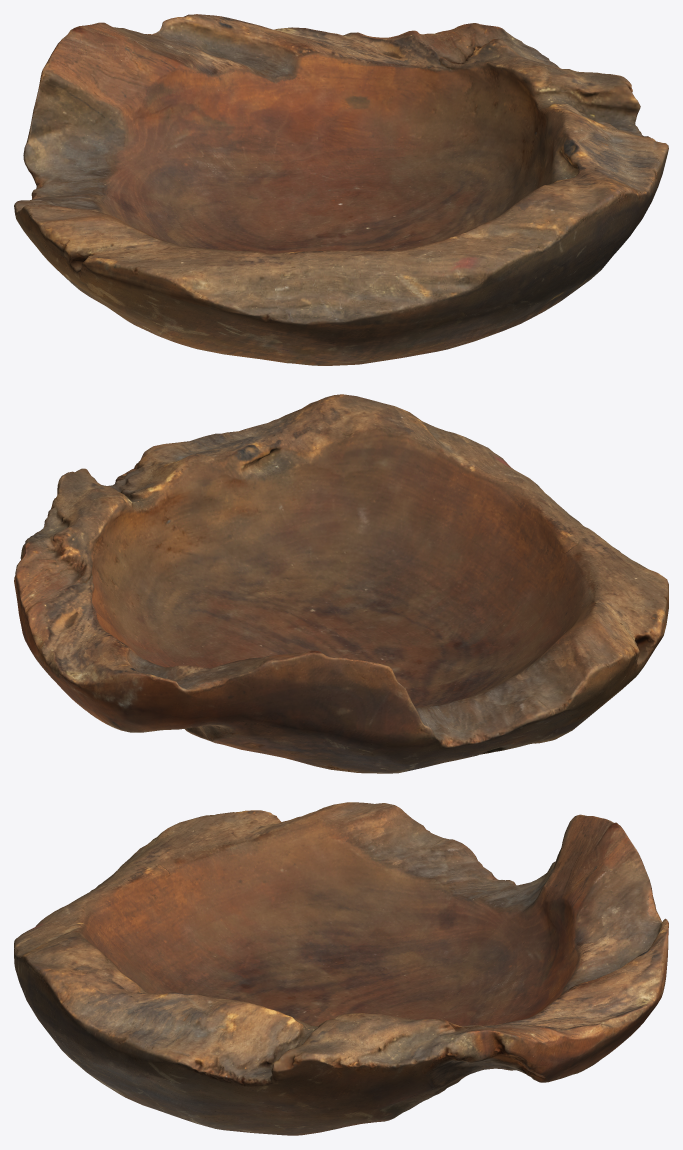
File: wooden_bowl_01.gltf
The picture shows the model from 3 angles, top to bottom: view 1: azimuth 30°, elevation 25°; view 2: azimuth 150°, elevation 25°; view 3: azimuth 270°, elevation 25°; orthographic projection. The views are drawn at different scales.
Parts seen in each view (by area): view 1: wooden_bowl_01; view 2: wooden_bowl_01; view 3: wooden_bowl_01.
Part boxes in pixels (left/top/right/bottom): wooden_bowl_01: left=14, top=14, right=668, bottom=365; wooden_bowl_01: left=14, top=394, right=668, bottom=773; wooden_bowl_01: left=14, top=802, right=668, bottom=1135.
Size of the model in its own units: 0.3131 by 0.0937 by 0.3091.
1 material, 1 textured.
